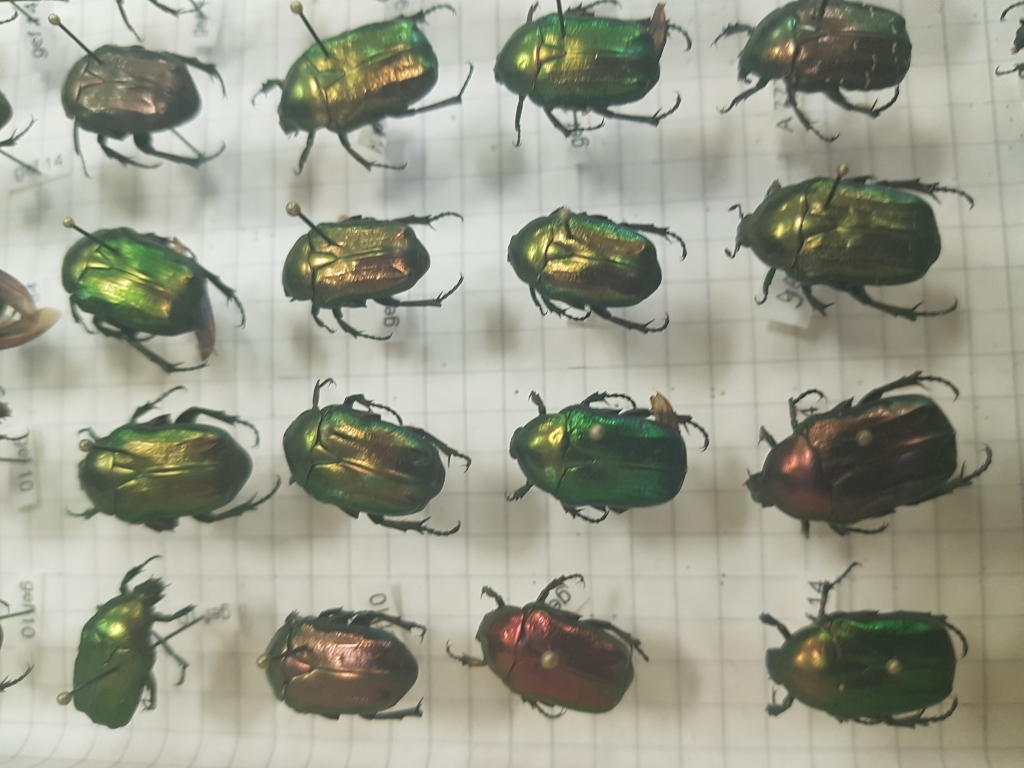Cetonia_aurata: (270, 374, 486, 561), (45, 225, 253, 379)
